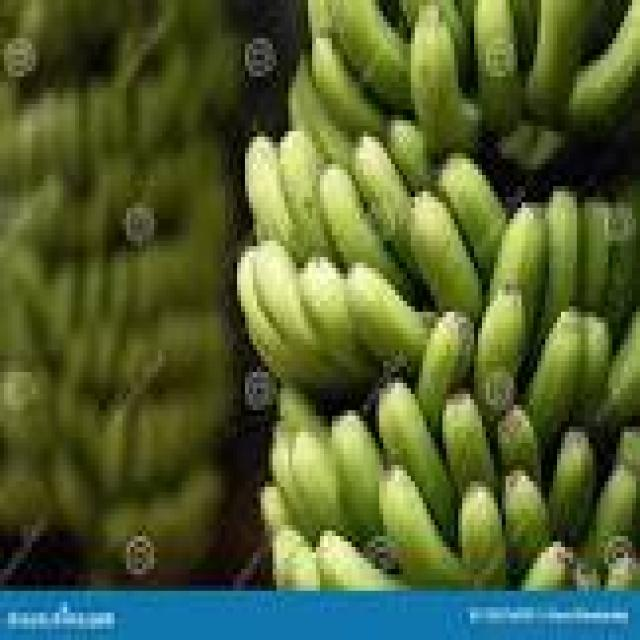banana: (238, 252, 331, 388), (380, 383, 458, 541), (317, 165, 410, 295), (253, 241, 339, 371), (380, 465, 470, 585), (411, 6, 478, 158), (348, 263, 434, 371), (301, 258, 375, 382), (569, 0, 639, 131), (352, 137, 418, 273), (328, 0, 410, 109), (411, 192, 481, 317), (439, 154, 505, 278), (490, 203, 549, 339), (526, 312, 584, 448), (526, 0, 588, 120), (415, 312, 474, 437), (475, 290, 525, 426), (313, 39, 383, 136), (281, 132, 335, 257), (332, 411, 383, 541), (475, 0, 525, 131), (289, 61, 351, 164), (538, 192, 580, 339), (269, 427, 323, 541), (400, 0, 474, 82), (289, 433, 351, 530), (245, 137, 296, 251), (443, 394, 497, 497), (585, 465, 639, 563), (502, 471, 553, 574), (459, 482, 505, 590), (550, 433, 596, 541), (317, 531, 399, 590), (605, 203, 639, 339), (601, 312, 639, 432), (577, 197, 612, 311), (577, 312, 612, 421), (498, 405, 541, 486), (388, 115, 430, 191), (273, 526, 319, 590), (277, 383, 327, 437), (522, 542, 572, 590), (510, 0, 541, 71), (261, 487, 292, 536), (605, 553, 639, 590), (617, 427, 639, 475), (309, 0, 335, 38), (573, 558, 600, 590)
